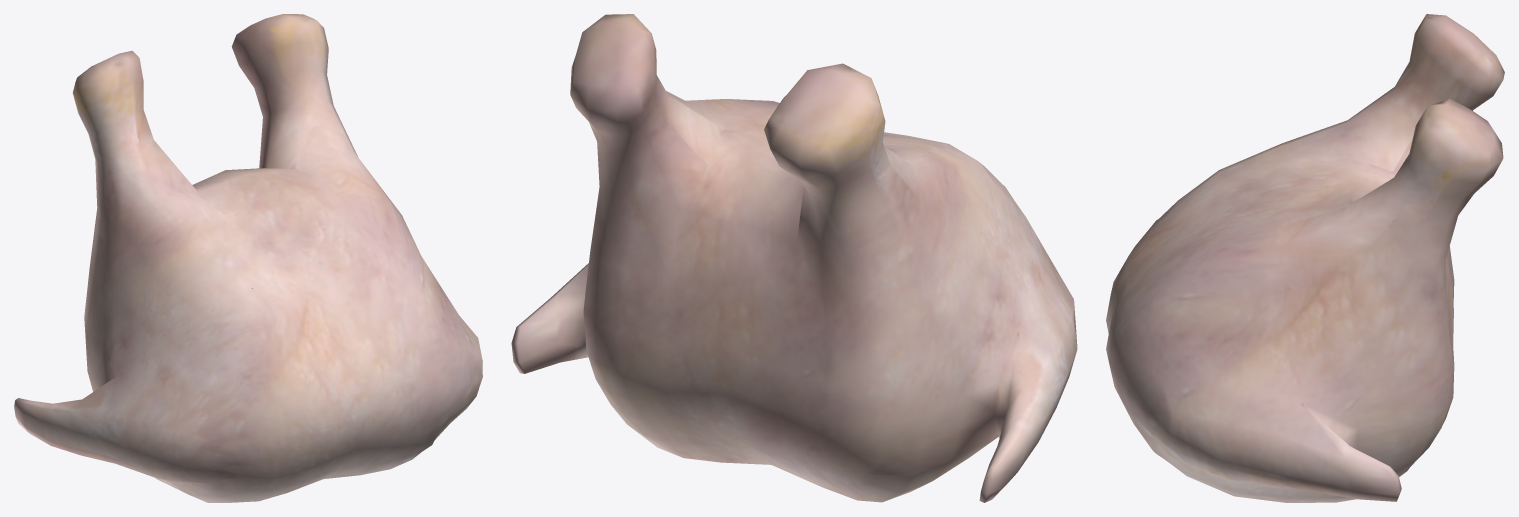
File: legs.fbx
3 views of the same model, side by side, from view 1: azimuth 30°, elevation 25°; view 2: azimuth 150°, elevation 25°; view 3: azimuth 270°, elevation 25° (orthographic). The views are drawn at different scales.
Parts seen in each view (by area): view 1: legs; view 2: legs; view 3: legs.
Boxes of the visible parts, x1,y1,x2,y2 form: legs: (14, 14, 482, 502); legs: (511, 14, 1077, 502); legs: (1106, 14, 1504, 502).
Size of the model in its own units: 0.6169 by 0.5627 by 0.511.
